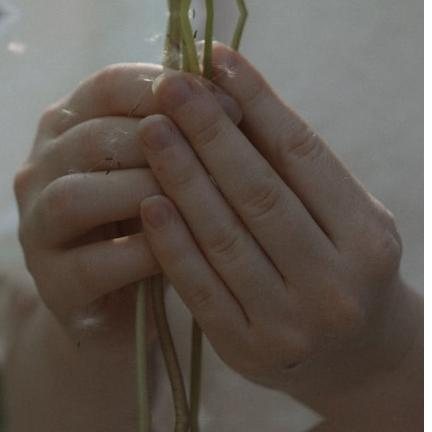Nail: (135, 112, 176, 153), (153, 70, 196, 107), (140, 191, 170, 229), (214, 91, 244, 126), (213, 42, 240, 80)
